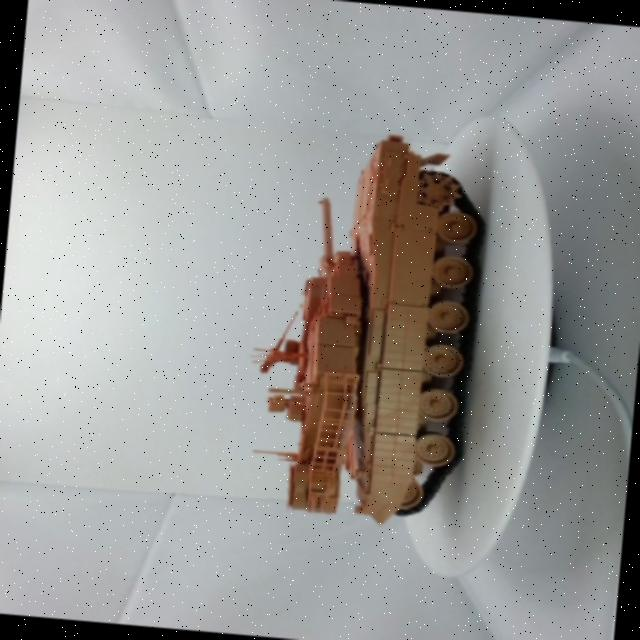korea tank: (226, 104, 514, 550)
